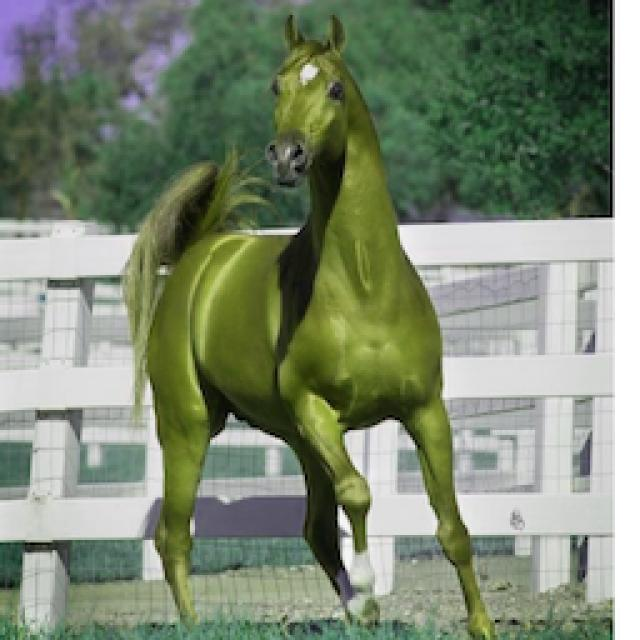Horse: (112, 8, 510, 638)
